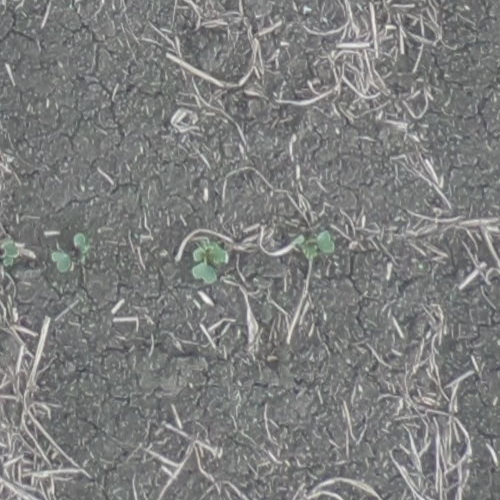plant: (191, 238, 229, 285), (52, 234, 91, 273), (299, 228, 336, 259), (0, 239, 23, 268)
